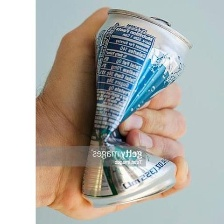can: (71, 6, 195, 208)
